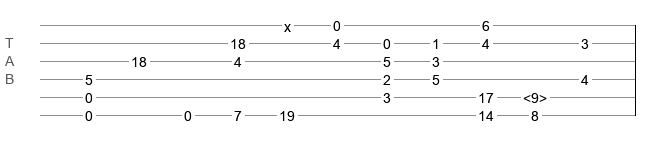0: (85, 108, 93, 118), (85, 90, 93, 100), (184, 108, 192, 118), (333, 18, 341, 28), (383, 36, 391, 46)
1: (432, 36, 440, 46)
14: (478, 108, 494, 118)
17: (478, 90, 494, 100)
18: (131, 54, 147, 64), (230, 36, 246, 46)
19: (279, 108, 295, 118)
2: (383, 72, 391, 82)
3: (383, 90, 391, 100), (432, 54, 440, 64), (581, 36, 589, 46)
4: (234, 54, 242, 64), (333, 36, 341, 46), (482, 36, 490, 46), (581, 72, 589, 82)
5: (85, 72, 93, 82), (383, 54, 391, 64), (432, 72, 440, 82)
6: (482, 18, 490, 28)
7: (234, 108, 242, 118)
8: (531, 108, 539, 118)
harmonic: (523, 90, 547, 100)
x: (284, 19, 291, 27)
